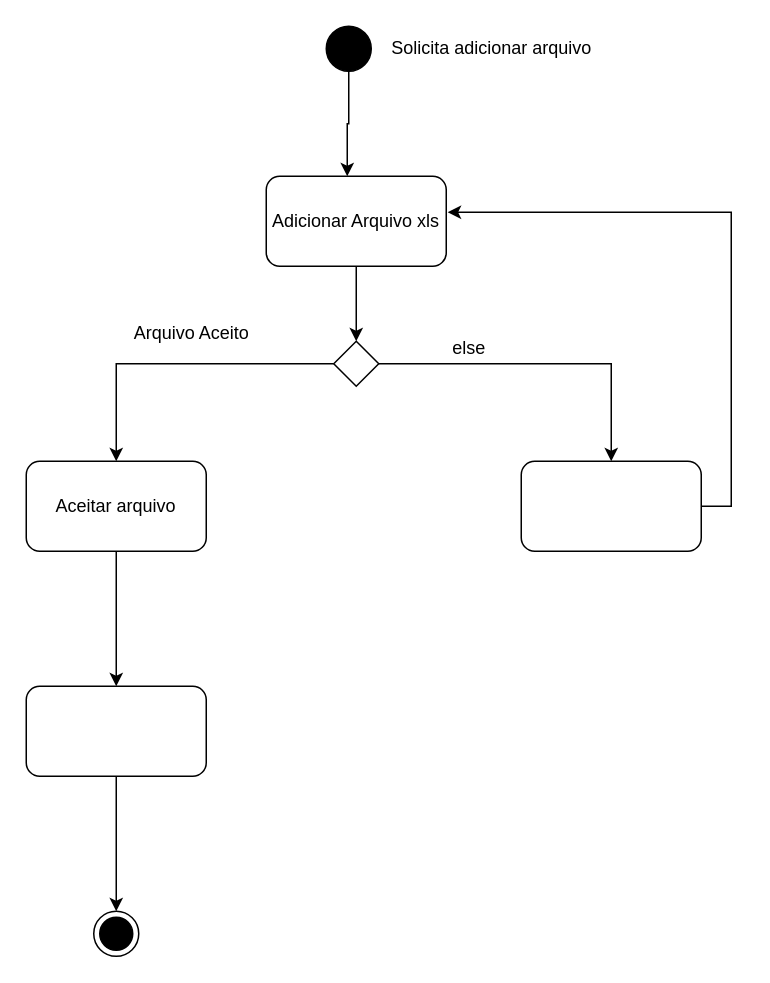
Some shapes in this 770 by 983 pixel diagram are drawn without their labels. Each missing label, with the centre of its shape:
"Atualizar Catalogo" goes at pixel 115 730.
"Rejeitar arquivo" goes at pixel 610 505.
